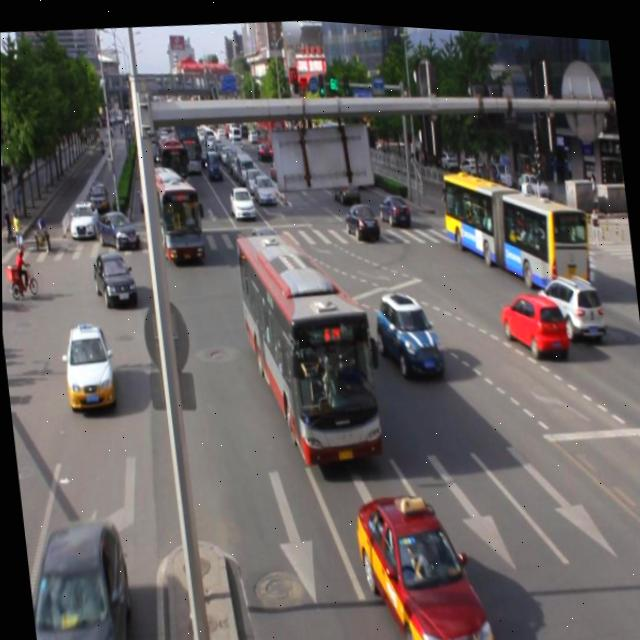car: (351, 476, 493, 640), (22, 508, 137, 640), (370, 278, 443, 379), (58, 315, 117, 412), (495, 279, 569, 355), (533, 261, 604, 336), (91, 246, 139, 311)
van: (234, 218, 384, 470), (440, 153, 592, 295)
